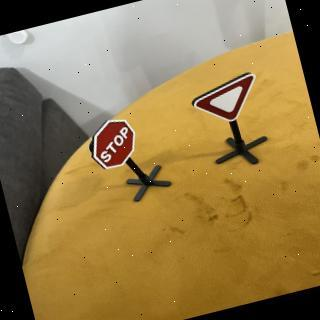sign_stop: (84, 113, 145, 175)
sign_yield: (190, 71, 268, 131)
